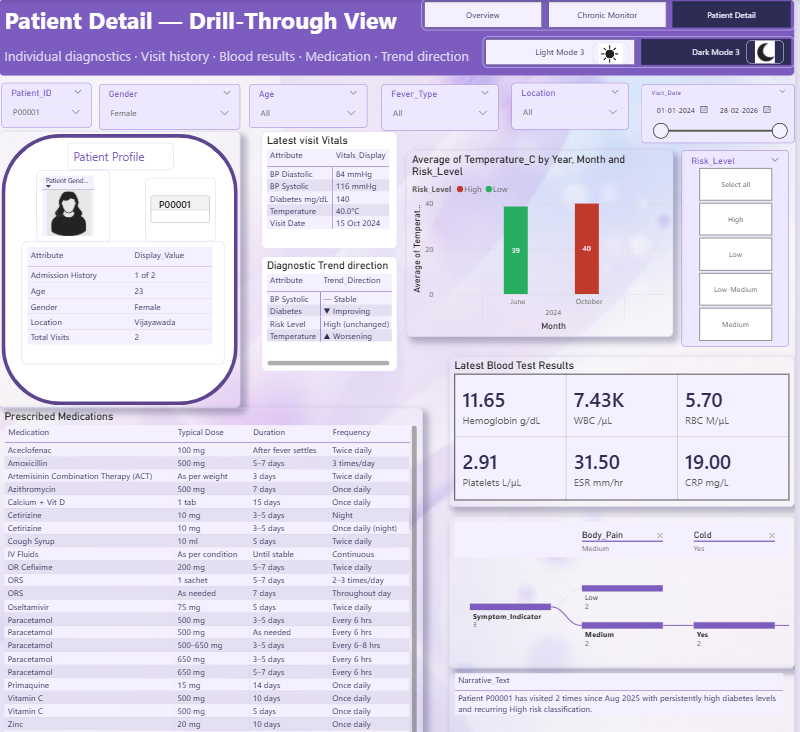

The dashboard page shown, as its layout file describes it:
{"tool":"powerbi","page":{"name":"Patient Detail","canvas":[1280,1200],"ordinal":2},"visuals":[{"type":"slicer","fields":{"Values":["Patient_Symptoms.Age"]},"box":[402.5,136.2,190,70],"z":2000},{"type":"slicer","fields":{"Values":["Fever_Type_Profile.Fever_Type"]},"box":[615,136.2,188.8,75],"z":3000},{"type":"slicer","fields":{"Values":["Patient_Symptoms.Location"]},"box":[825,135,188.8,75],"z":4000},{"type":"slicer","fields":{"Values":["Patient_Symptoms.Visit_Date"]},"box":[1033.8,136.2,246.2,95],"z":5000},{"type":"textbox","box":[0,0,1280,124],"z":6000},{"type":"pageNavigator","box":[680,0,600,50],"z":7000},{"type":"slicer","fields":{"Values":["Patient_Symptoms.Patient_ID"]},"box":[5,135,145,72.5],"z":8000},{"type":"shape","box":[0,213.1,388.1,444.4],"z":9000},{"type":"textbox","box":[60,305,90,56.2],"z":10000},{"type":"cardVisual","fields":{"Rows":["Patient_Symptoms.Patient_ID"]},"box":[236.2,287.5,113.8,102.5],"z":11000},{"type":"slicer","fields":{"Values":["Fever_Type_Profile.Risk_Level"]},"box":[1098.8,243.8,172.5,316.2],"z":12000},{"type":"tableEx","fields":{"Values":["ProfileLabels.Attribute","ProfileLabels.Display_Value"]},"box":[36.2,390,326.2,197.5],"z":13000},{"type":"pivotTable","title":"Latest visit Vitals","fields":{"Rows":["VitalsLabels.Attribute"],"Values":["VitalsLabels.Vitals_Display"]},"box":[421.2,213.8,218.8,188.8],"z":14000},{"type":"pivotTable","title":"Diagnostic Trend direction","fields":{"Rows":["TrendLabels.Attribute"],"Values":["TrendLabels.Trend_Direction"]},"box":[421.2,415,218.8,185],"z":15000},{"type":"cardVisual","title":"Latest Blood Test Results","fields":{"Data":["Avg(Blood_Test_Results.Hemoglobin)","Avg(Blood_Test_Results.WBC)","Avg(Blood_Test_Results.RBC)","Avg(Blood_Test_Results.Platelets)","Avg(Blood_Test_Results.ESR)","Avg(Blood_Test_Results.CRP)"]},"box":[723.8,575,556.2,241.2],"z":16000},{"type":"tableEx","title":"Prescribed Medications","fields":{"Values":["Medication.Medication","Medication.Typical Dose","Medication.Duration","Medication.Frequency"]},"box":[0,657.5,681.6,542.9],"z":17000},{"type":"decompositionTreeVisual","title":"Active Symptoms as per latest visit","fields":{"ExplainBy":["Patient_Symptoms.Body_Pain","Patient_Symptoms.Cold","Patient_Symptoms.Fatigue","Patient_Symptoms.Diarrhea","Patient_Symptoms.Chills","Patient_Symptoms.Abdominal_Pain","Patient_Symptoms.Headache","Patient_Symptoms.Rash","Patient_Symptoms.Vomiting","Patient_Symptoms.Joint_Pain","Patient_Symptoms.Cough"],"Analyze":["Blood_Test_Results.Symptom_Indicator"]},"box":[724,832,556,244],"z":18000},{"type":"textbox","box":[110,231.2,170,43.8],"z":19000},{"type":"ribbonChart","fields":{"Category":["Patient_Symptoms.Visit_Date.Variation.Date Hierarchy.Year","Patient_Symptoms.Visit_Date.Variation.Date Hierarchy.Month"],"Series":["Patient_Symptoms.Risk_Level"],"Y":["Avg(Patient_Symptoms.Temperature_C)"]},"box":[656.2,243.8,428.8,300],"z":20000},{"type":"tableEx","fields":{"Values":["Blood_Test_Results.Narrative_Text"]},"box":[723.8,1076.2,556.2,108.8],"z":21000},{"type":"bookmarkNavigator","box":[778.8,61.2,501.2,50],"z":22000},{"type":"tableEx","fields":{"Values":["Blood_Test_Results.Patient Gender Icon"]},"box":[60,275,118.8,115],"z":23000},{"type":"slicer","fields":{"Values":["Patient_Symptoms.Gender"]},"box":[160,137.5,227.5,73.8],"z":24000},{"type":"image","box":[955.4,70,58.5,34.6],"z":24001},{"type":"image","box":[1201.5,66.9,60,37.7],"z":24002}]}

Visuals, with their boxes in screenshot pixels (x1, y1, x2, y2), scaled from the page's 1280x1200 canvas onto the 800x732 screenshot:
slicer - Patient_Symptoms.Age: bbox(252, 83, 370, 126)
slicer - Fever_Type_Profile.Fever_Type: bbox(384, 83, 502, 129)
slicer - Patient_Symptoms.Location: bbox(516, 82, 634, 128)
slicer - Patient_Symptoms.Visit_Date: bbox(646, 83, 799, 141)
textbox: bbox(0, 0, 799, 76)
pageNavigator: bbox(425, 0, 799, 30)
slicer - Patient_Symptoms.Patient_ID: bbox(3, 82, 94, 127)
shape: bbox(0, 130, 243, 401)
textbox: bbox(38, 186, 94, 220)
cardVisual - Patient_Symptoms.Patient_ID: bbox(148, 175, 219, 238)
slicer - Fever_Type_Profile.Risk_Level: bbox(687, 149, 795, 342)
tableEx - ProfileLabels.Attribute x ProfileLabels.Display_Value: bbox(23, 238, 226, 358)
"Latest visit Vitals" pivotTable: bbox(263, 130, 400, 246)
"Diagnostic Trend direction" pivotTable: bbox(263, 253, 400, 366)
"Latest Blood Test Results" cardVisual: bbox(452, 351, 799, 498)
"Prescribed Medications" tableEx: bbox(0, 401, 426, 731)
"Active Symptoms as per latest visit" decompositionTreeVisual: bbox(452, 508, 799, 656)
textbox: bbox(69, 141, 175, 168)
ribbonChart - Patient_Symptoms.Visit_Date.Variation.Date Hierarchy.Year x Patient_Symptoms.Visit_Date.Variation.Date Hierarchy.Month: bbox(410, 149, 678, 332)
tableEx - Blood_Test_Results.Narrative_Text: bbox(452, 656, 799, 723)
bookmarkNavigator: bbox(487, 37, 799, 68)
tableEx - Blood_Test_Results.Patient Gender Icon: bbox(38, 168, 112, 238)
slicer - Patient_Symptoms.Gender: bbox(100, 84, 242, 129)
image: bbox(597, 43, 634, 64)
image: bbox(751, 41, 788, 64)
